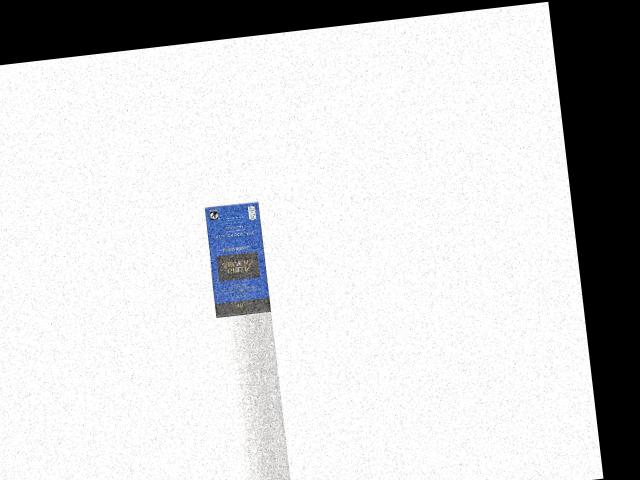chocolate: (203, 203, 272, 317)
